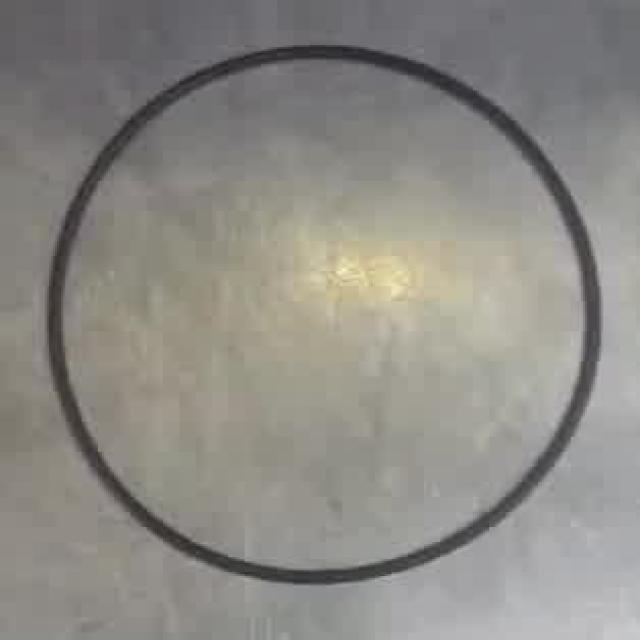Circle: (42, 41, 604, 584)
